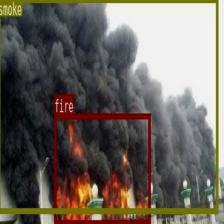fire: (54, 113, 150, 224)
smoke: (0, 0, 218, 212)
